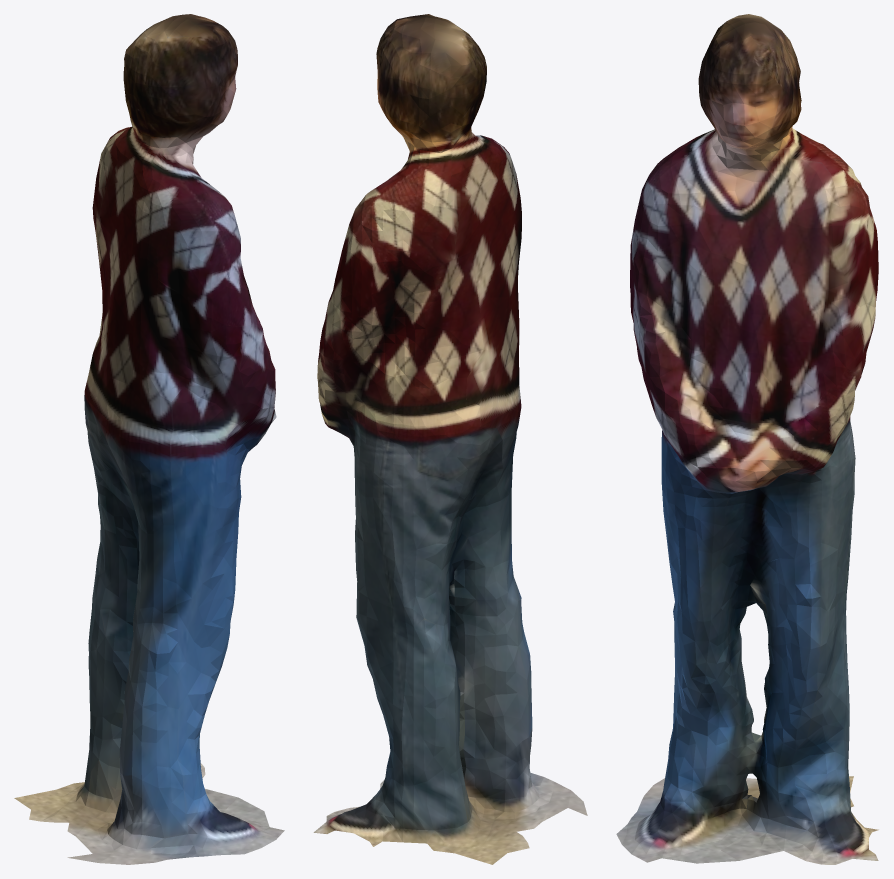
File: Forum.glb
3 renders of one model, left to right at view 1: azimuth 30°, elevation 25°; view 2: azimuth 150°, elevation 25°; view 3: azimuth 270°, elevation 25°, orthographic. The views are drawn at different scales.
Parts seen in each view (by area): view 1: Mesh_0.002; view 2: Mesh_0.002; view 3: Mesh_0.002.
Part boxes in pixels (<box>): Mesh_0.002: <box>14,14,284,864</box>; Mesh_0.002: <box>313,14,587,864</box>; Mesh_0.002: <box>616,14,878,864</box>.
Bounding box in the file's own units: 0.5175 × 1.79 × 0.5242.
Materials: 1 (1 with a texture image).
